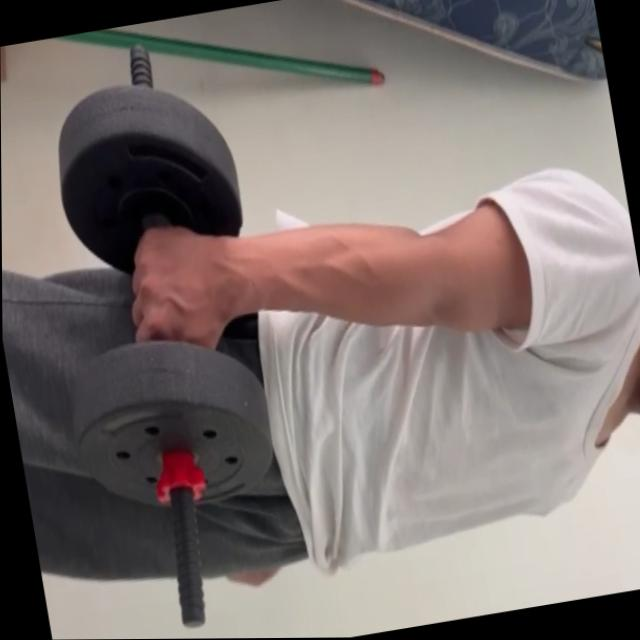hammer: (19, 62, 293, 532)
